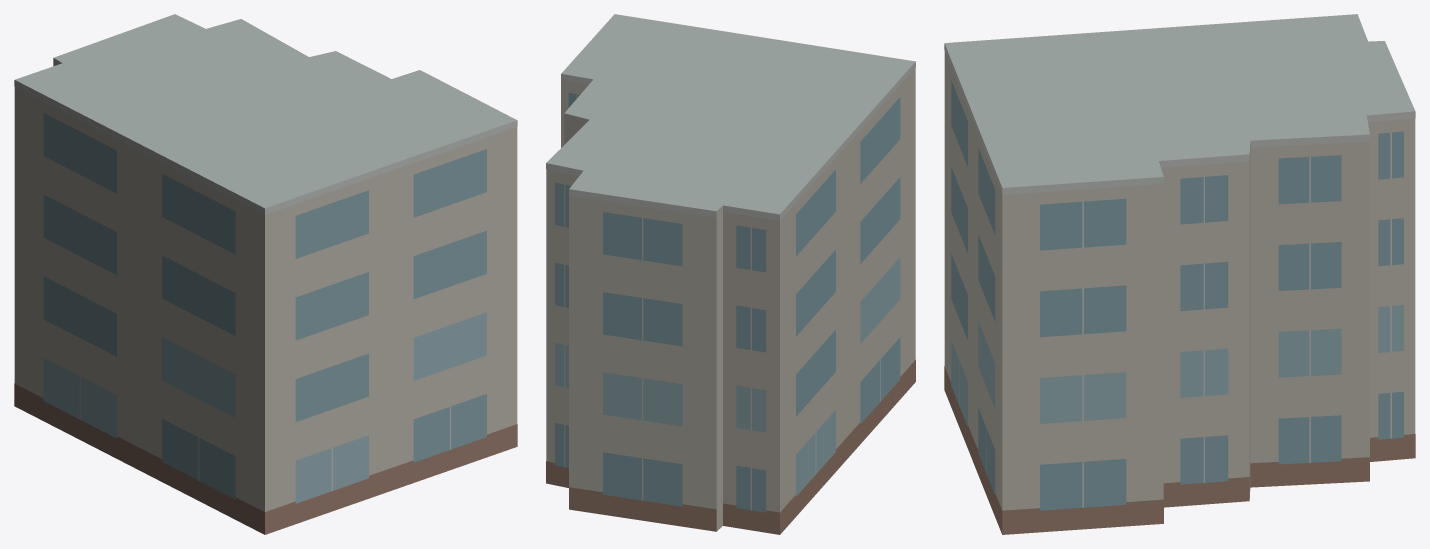
The model's file is survey-upis-32495067.glb.
The picture shows the model from 3 angles, left to right: view 1: azimuth 30°, elevation 25°; view 2: azimuth 150°, elevation 25°; view 3: azimuth 270°, elevation 25°; orthographic projection. The views are drawn at different scales.
Parts seen in each view (by area): view 1: survey-upis-32495067.tmp; view 2: survey-upis-32495067.tmp; view 3: survey-upis-32495067.tmp.
Part boxes in pixels (x1,y1,x2,y2): survey-upis-32495067.tmp: (14,14,517,534); survey-upis-32495067.tmp: (546,14,915,534); survey-upis-32495067.tmp: (944,14,1415,534).
Size of the model in its own units: 13.14 by 12.2 by 15.03.
